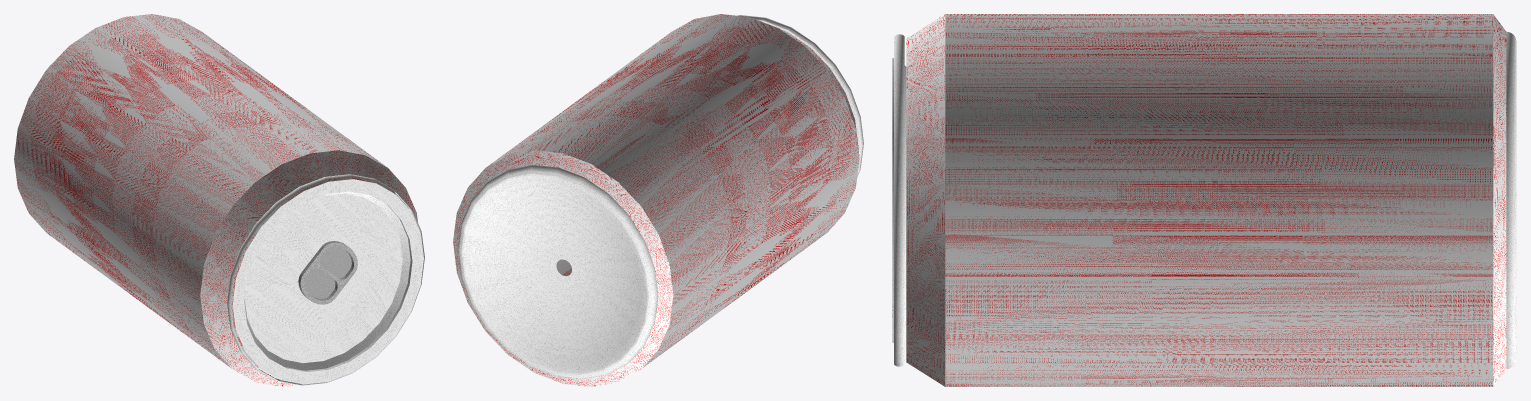
Rendered from model_align.obj.
3 renders of one model, left to right at view 1: azimuth 30°, elevation 25°; view 2: azimuth 150°, elevation 25°; view 3: azimuth 270°, elevation 25°, orthographic. The views are drawn at different scales.
Parts seen in each view (by area): view 1: mesh2_mesh2-geometry, mesh3_mesh3-geometry, mesh1_mesh1-geometry, mesh4_mesh4-geometry; view 2: mesh2_mesh2-geometry, mesh4_mesh4-geometry, mesh3_mesh3-geometry; view 3: mesh2_mesh2-geometry, mesh4_mesh4-geometry, mesh3_mesh3-geometry.
Boxes of the visible parts, box(x1,y1,x2,y2) form: mesh2_mesh2-geometry: box(14, 14, 417, 386); mesh3_mesh3-geometry: box(232, 179, 423, 384); mesh1_mesh1-geometry: box(298, 241, 357, 304); mesh4_mesh4-geometry: box(227, 174, 424, 385); mesh2_mesh2-geometry: box(453, 14, 859, 386); mesh4_mesh4-geometry: box(738, 15, 863, 176); mesh3_mesh3-geometry: box(758, 20, 860, 153); mesh2_mesh2-geometry: box(906, 14, 1516, 386); mesh4_mesh4-geometry: box(894, 34, 904, 366); mesh3_mesh3-geometry: box(892, 58, 906, 342).
Size of the model in its own units: 0.0746 by 0.0746 by 0.1244.
